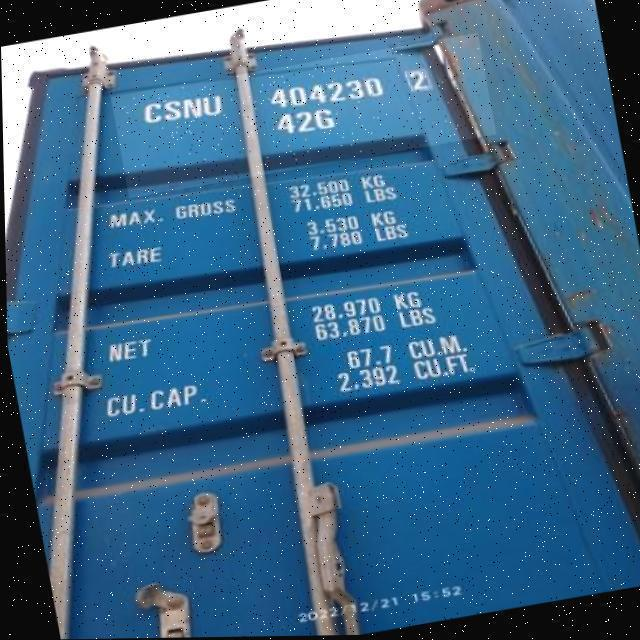ISO: (276, 100, 338, 144)
container_number: (126, 62, 434, 136)
